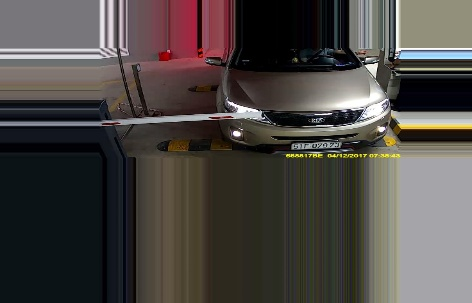plate: (291, 138, 342, 150)
